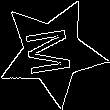M_E: (23, 25, 81, 79)
